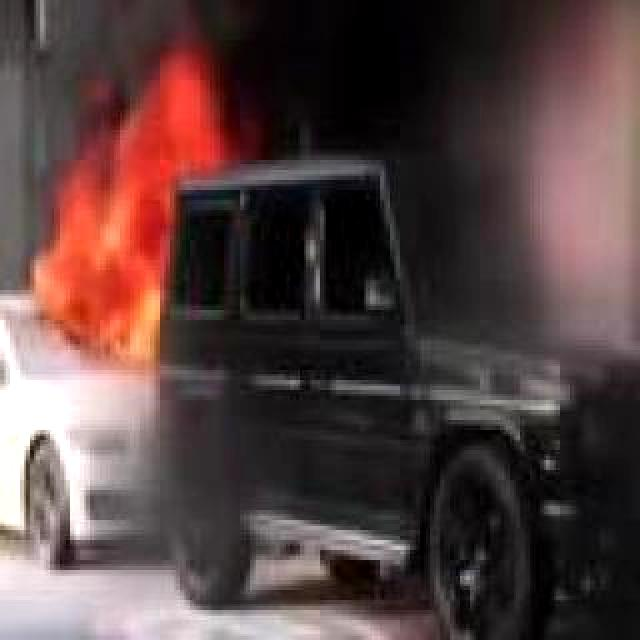fire: (24, 112, 190, 358)
